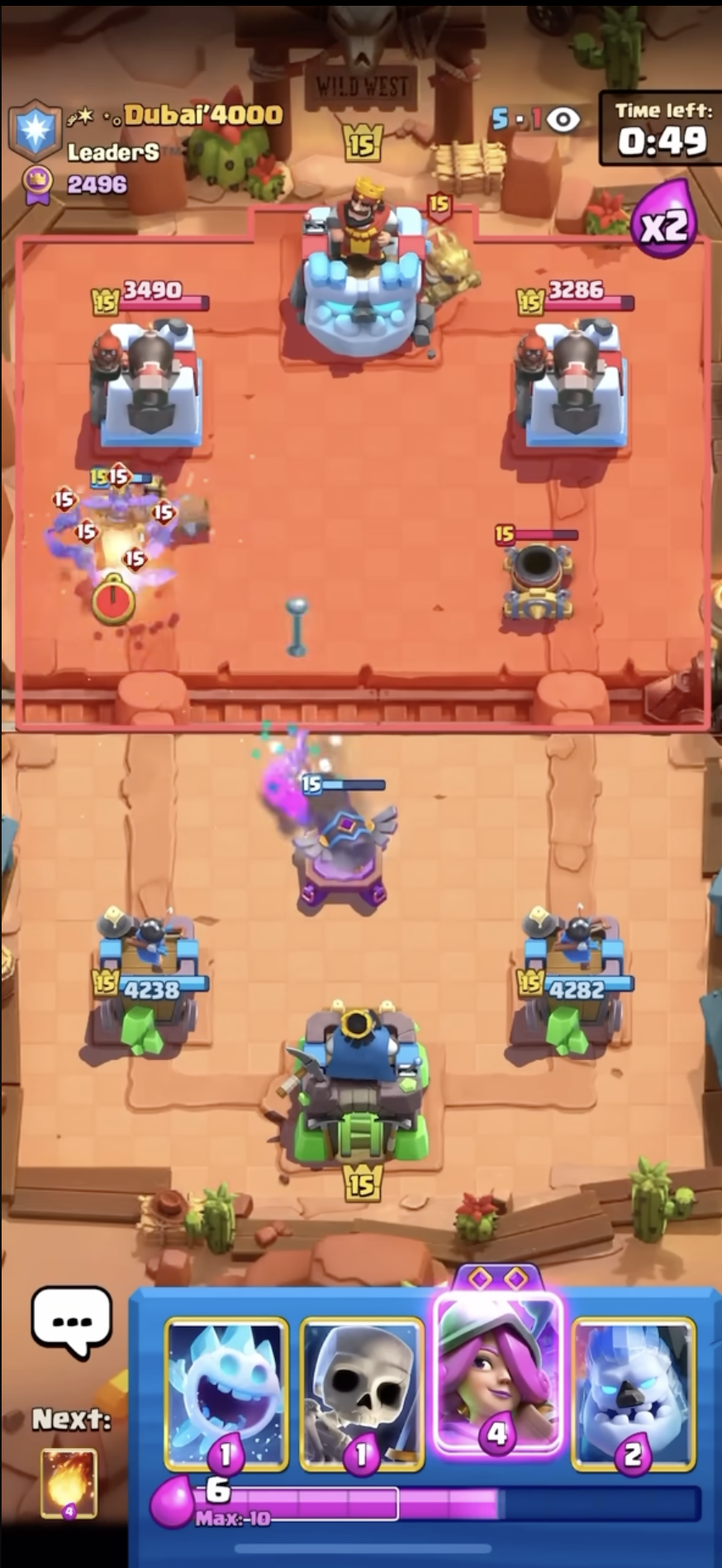evo_cannon: (281, 766, 405, 925)
